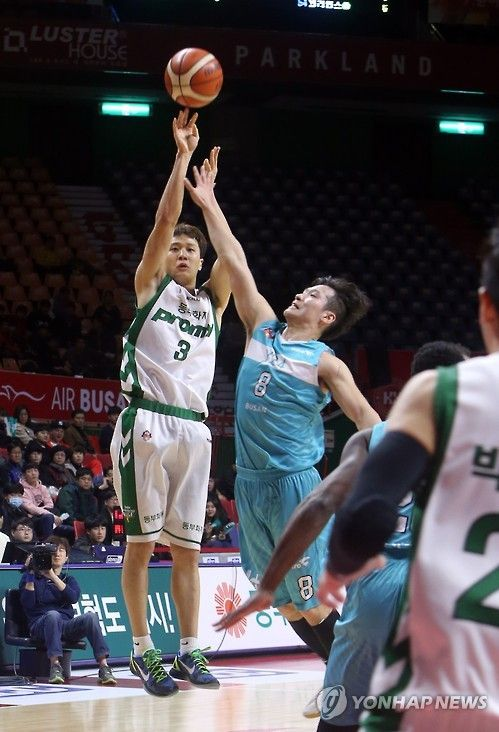ball: (151, 44, 228, 108)
defense: (173, 145, 386, 683)
shoot: (107, 34, 238, 701)
